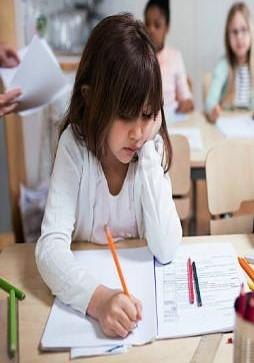good: (23, 5, 254, 363)
